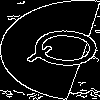Q: (25, 25, 100, 73)
